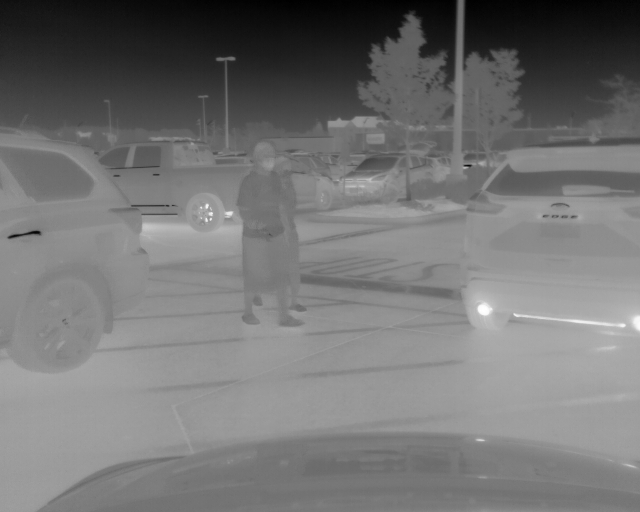car: (456, 136, 640, 341), (1, 127, 154, 370), (96, 140, 257, 230), (222, 154, 339, 215), (341, 151, 447, 205)
people: (237, 141, 303, 328), (272, 155, 305, 312)
